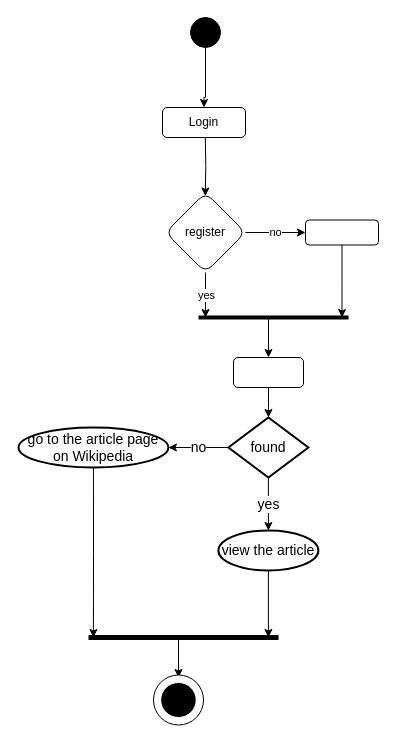
Some shapes in this 396 by 743 pixel diagram are drawn without their labels. The box of each missing label's shape, as (x1, y1, x2, y2) in pixels:
Search article: (232, 356, 304, 388)
Signin: (304, 219, 378, 245)
